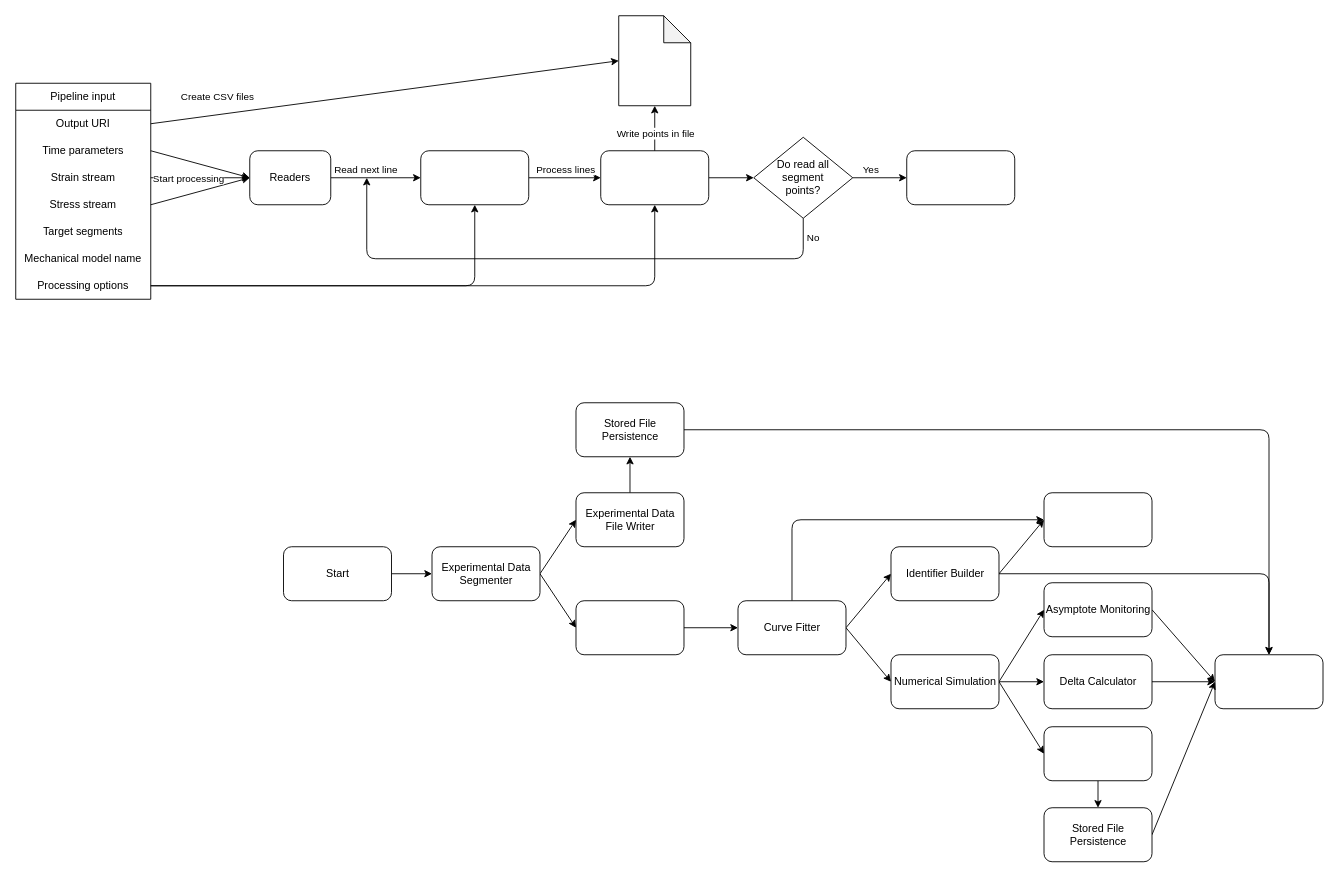
Some shapes in this 1339 by 878 pixel diagram are drawn without their labels. Each missing label, with the box of its shape:
CSV experimental segmented file: (618, 15, 691, 106)
Curve Fit Output Persistence: (1043, 492, 1152, 547)
Curve Segment Builder: (575, 600, 684, 655)
Experimental point (time, strain, stress): (420, 150, 529, 205)
Mechanical Model Output File Writer: (1043, 726, 1152, 781)
Mechanical Model Output Persistence: (1214, 654, 1323, 709)
Segmented data point: (600, 150, 709, 205)
